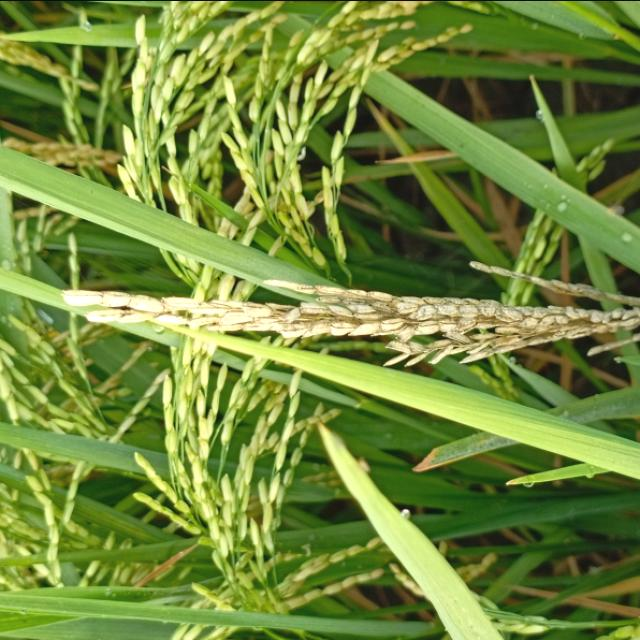Hawar Daun Bakteri: (407, 438, 461, 477), (137, 556, 190, 586), (568, 595, 636, 616), (512, 583, 548, 596)
brown spot: (455, 138, 470, 150), (86, 186, 99, 196)
